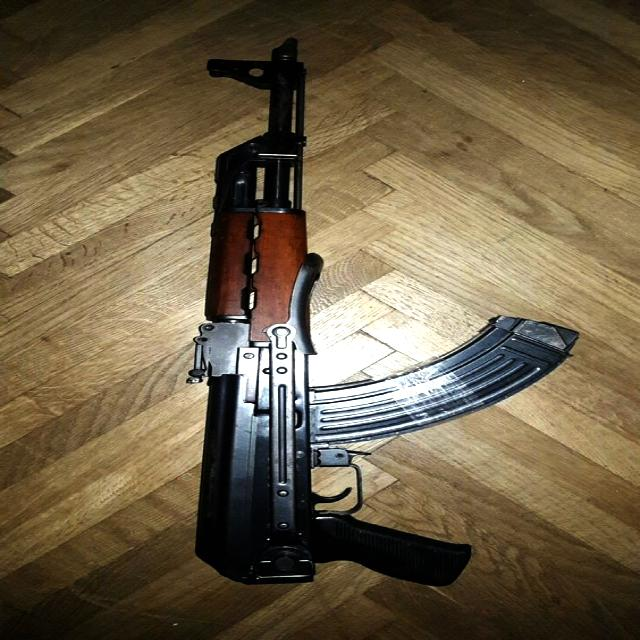ak: (160, 32, 584, 594)
